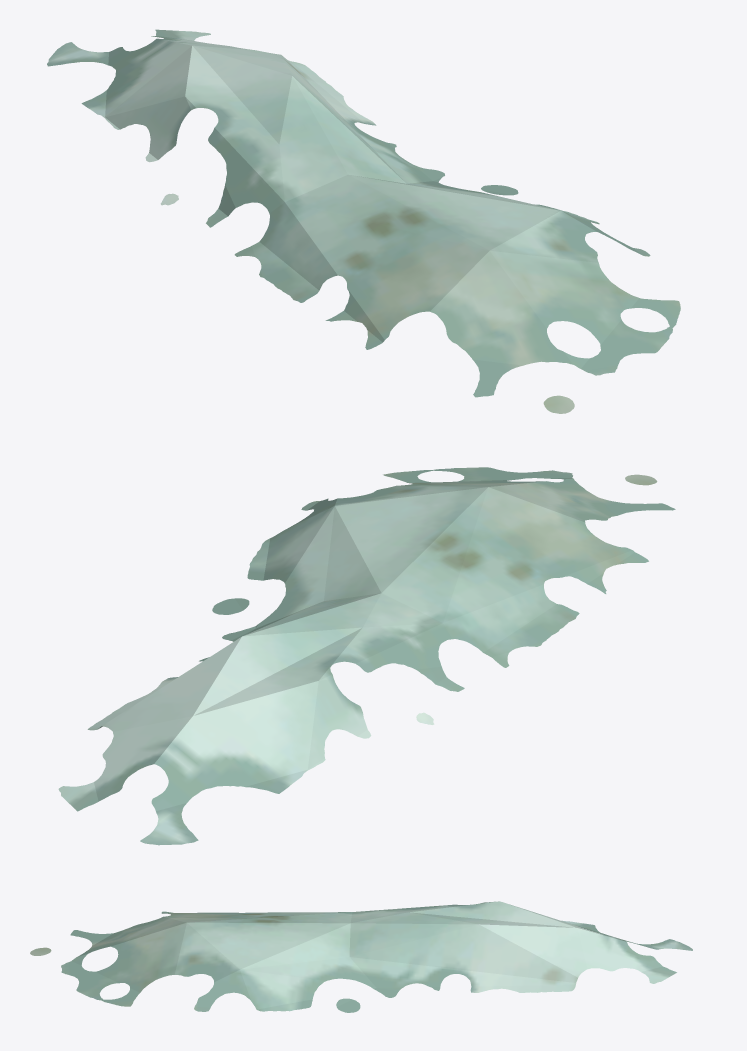
File: small_hill05_grassblend.fbx
The picture shows the model from 3 angles, top to bottom: view 1: azimuth 30°, elevation 25°; view 2: azimuth 150°, elevation 25°; view 3: azimuth 270°, elevation 25°; orthographic projection. The views are drawn at different scales.
Parts seen in each view (by area): view 1: obj0.081; view 2: obj0.081; view 3: obj0.081.
Part boxes in pixels (x1=…): obj0.081: x1=47, y1=29, x2=680, y2=413; obj0.081: x1=58, y1=467, x2=675, y2=845; obj0.081: x1=30, y1=901, x2=692, y2=1012.
Size of the model in its own units: 4.96 by 0.892 by 11.56.
